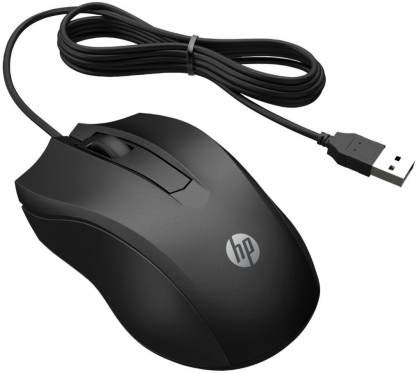mouse: (15, 112, 329, 367)
